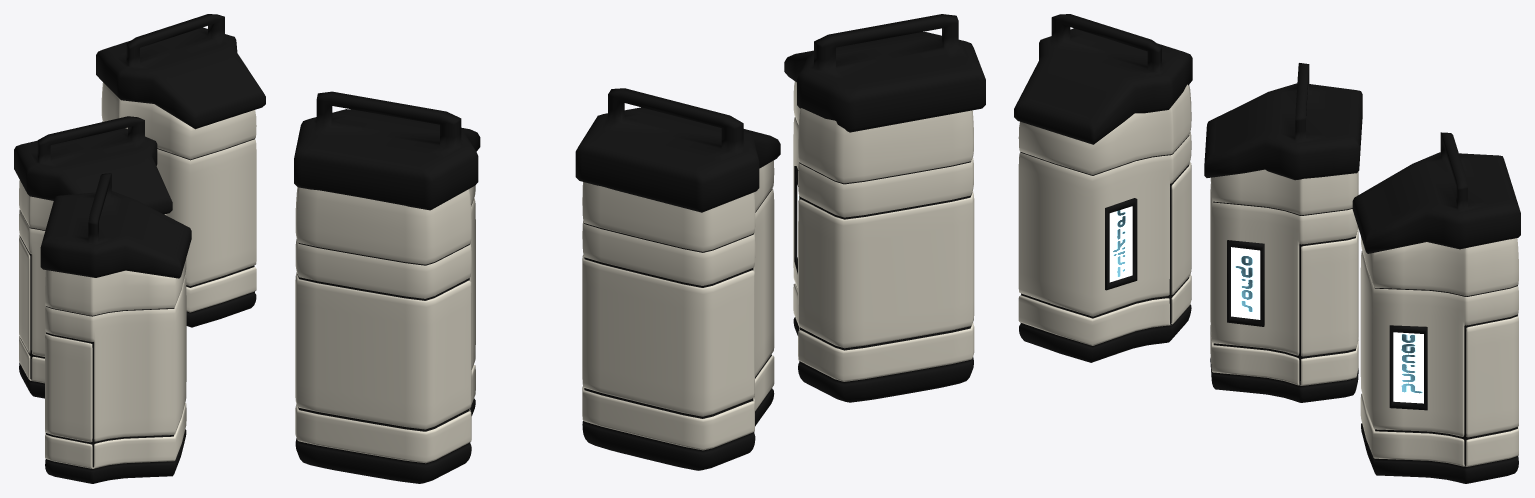
Rendered from alien powder containers.fbx.
3 views of the same model, side by side, from view 1: azimuth 30°, elevation 25°; view 2: azimuth 150°, elevation 25°; view 3: azimuth 270°, elevation 25° (orthographic). The views are drawn at different scales.
Visible parts, largest first — view 1: cornstarch container, flour container, flour lid, cornstarch lid, teff lid, teffcontainer; view 2: teffcontainer, flour container, cornstarch container, cornstarch lid, teff lid, flour lid; view 3: cornstarch container, flour container, teffcontainer, cornstarch lid, flour lid, teff lid, flour label, teff label, cornstarch label.
Boxes of the visible parts, x1,y1,x2,y2 form: cornstarch container: (45, 258, 186, 483); flour container: (101, 82, 256, 327); flour lid: (96, 14, 265, 129); cornstarch lid: (40, 173, 191, 278); teff lid: (14, 116, 172, 214); teffcontainer: (19, 180, 166, 398); teffcontainer: (582, 160, 774, 470); flour container: (295, 185, 475, 483); cornstarch container: (793, 81, 974, 402); cornstarch lid: (784, 14, 985, 132); teff lid: (575, 88, 780, 212); flour lid: (294, 91, 480, 210); cornstarch container: (1018, 84, 1191, 362); flour container: (1360, 237, 1518, 483); teffcontainer: (1210, 169, 1358, 402); cornstarch lid: (1014, 14, 1192, 144); flour lid: (1352, 132, 1520, 253); teff lid: (1204, 63, 1362, 180); flour label: (1389, 325, 1427, 410); teff label: (1227, 240, 1264, 326); cornstarch label: (1105, 198, 1137, 290).
Size of the model in its own units: 368 by 266 by 400.
